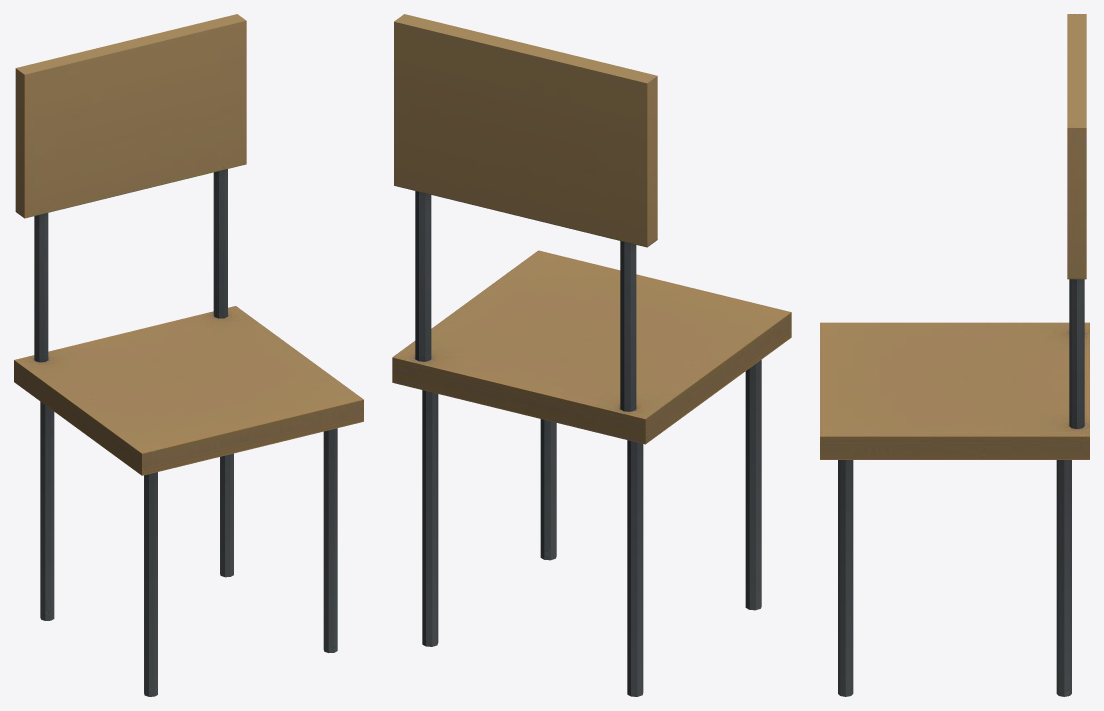
The model's file is prop_chair.glb.
The picture shows the model from 3 angles, left to right: view 1: azimuth 30°, elevation 25°; view 2: azimuth 150°, elevation 25°; view 3: azimuth 270°, elevation 25°; orthographic projection. The views are drawn at different scales.
Parts seen in each view (by area): view 1: Chair; view 2: Chair; view 3: Chair.
Part boxes in pixels (box(x1,y1,x2,y2)): Chair: box(14, 14, 363, 696); Chair: box(392, 14, 791, 696); Chair: box(820, 14, 1089, 696).
Size of the model in its own units: 0.42 by 0.99 by 0.42.
2 materials, 2 textured.
